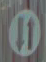Two way: (7, 6, 45, 60)
